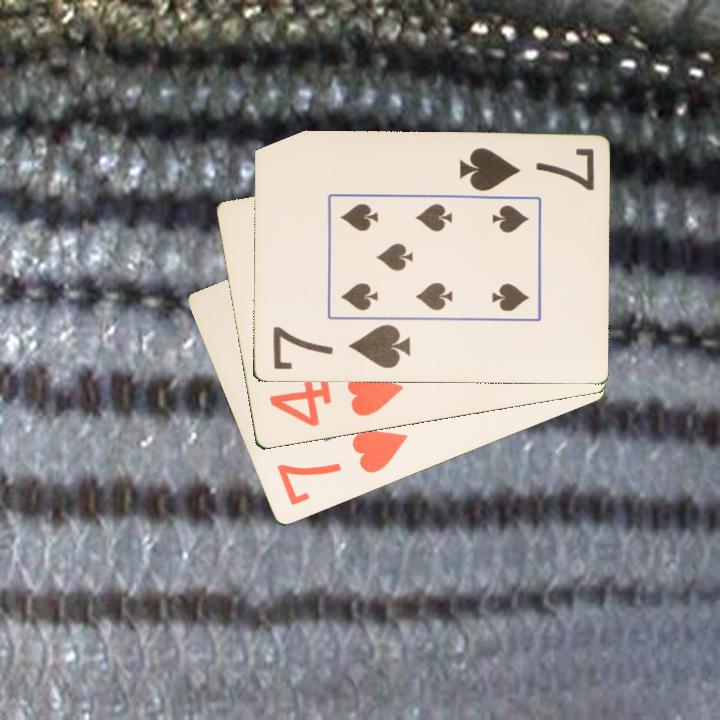4h: (265, 370, 406, 430)
7h: (273, 427, 411, 509)
7s: (268, 321, 413, 373), (455, 144, 597, 194)
